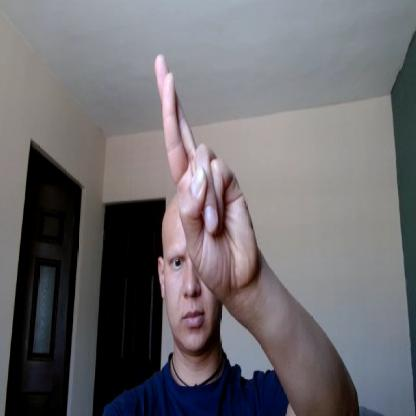R: (154, 51, 258, 296)
